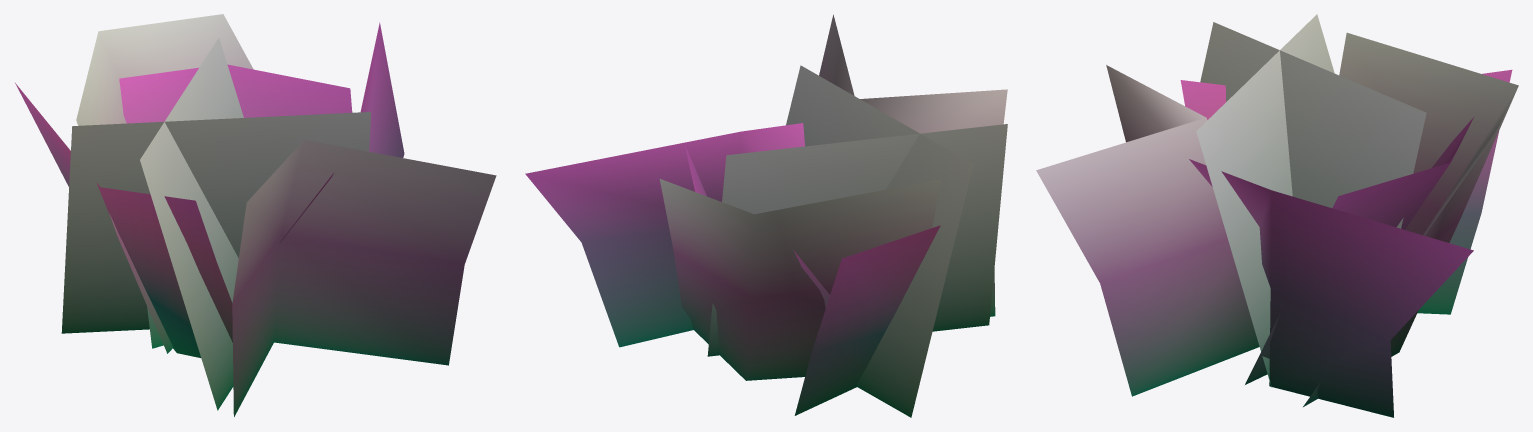
File: mossDry.fbx
3 views of the same model, side by side, from view 1: azimuth 30°, elevation 25°; view 2: azimuth 150°, elevation 25°; view 3: azimuth 270°, elevation 25° (orthographic). The views are drawn at different scales.
Parts seen in each view (by area): view 1: mossDry_LOD0; view 2: mossDry_LOD0; view 3: mossDry_LOD0.
Boxes of the visible parts, left/top/right/bottom form: mossDry_LOD0: left=15, top=14, right=496, bottom=416; mossDry_LOD0: left=525, top=14, right=1007, bottom=417; mossDry_LOD0: left=1036, top=14, right=1518, bottom=417.
Size of what is drawn, in the model's own units: 0.6614 by 0.4019 by 0.7129.
